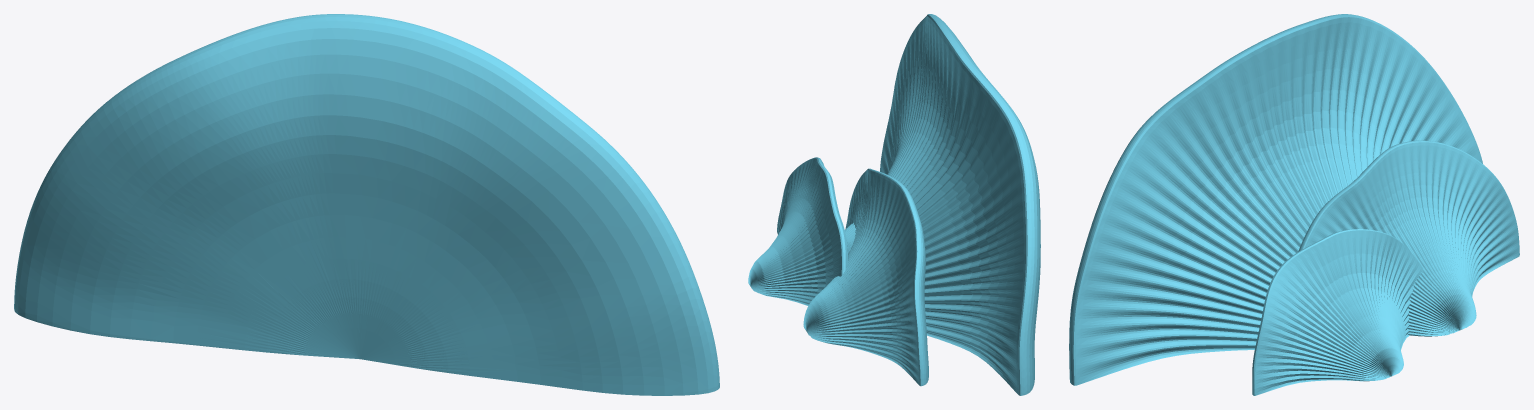
The model's file is mushroom-shelves.glb.
The picture shows the model from 3 angles, left to right: view 1: azimuth 30°, elevation 25°; view 2: azimuth 150°, elevation 25°; view 3: azimuth 270°, elevation 25°; orthographic projection. The views are drawn at different scales.
Parts seen in each view (by area): view 1: mushroom-shelve-1.stl_fil1; view 2: mushroom-shelve-1.stl_fil1; view 3: mushroom-shelve-1.stl_fil1.
Boxes of the visible parts, left/top/right/bottom form: mushroom-shelve-1.stl_fil1: left=14, top=14, right=719, bottom=395; mushroom-shelve-1.stl_fil1: left=748, top=14, right=1040, bottom=395; mushroom-shelve-1.stl_fil1: left=1069, top=14, right=1519, bottom=395.
Size of the model in its own units: 0.1209 by 0.08 by 0.1235.
